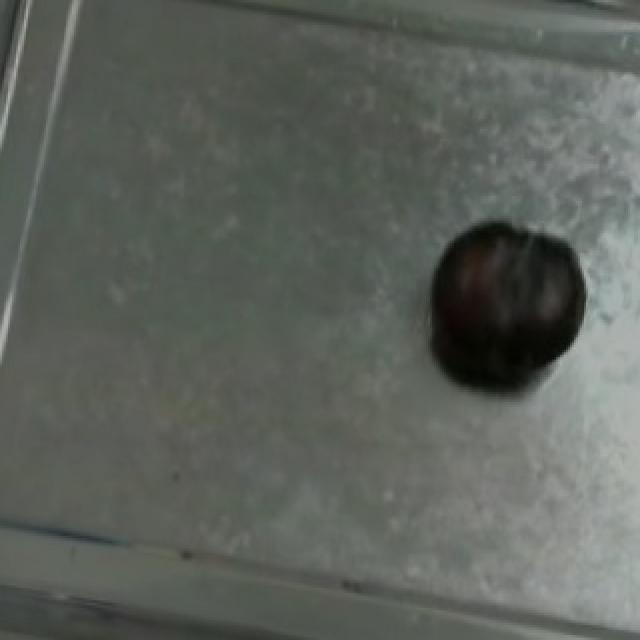Fruit: (416, 206, 600, 399)
